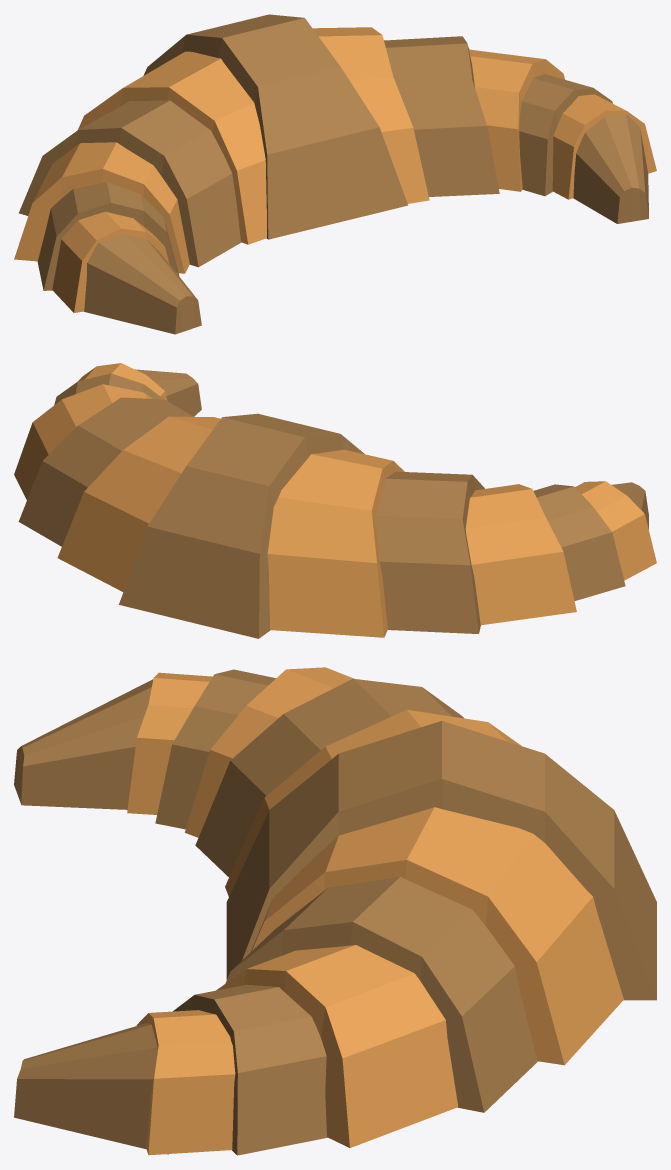
Rendered from croissant.fbx.
3 views of the same model, one above another, from view 1: azimuth 30°, elevation 25°; view 2: azimuth 150°, elevation 25°; view 3: azimuth 270°, elevation 25° (orthographic). The views are drawn at different scales.
Parts seen in each view (by area): view 1: croissant; view 2: croissant; view 3: croissant.
Boxes of the visible parts, bbox=[...] form: croissant: bbox=[14, 14, 656, 334]; croissant: bbox=[14, 363, 656, 638]; croissant: bbox=[14, 667, 656, 1155].
Bounding box in the file's own units: 234 × 53.71 × 155.
